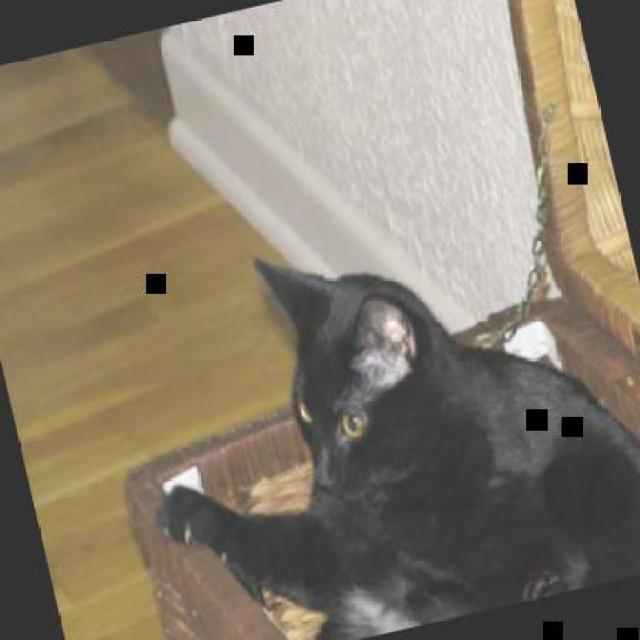cat: (103, 174, 639, 638)
